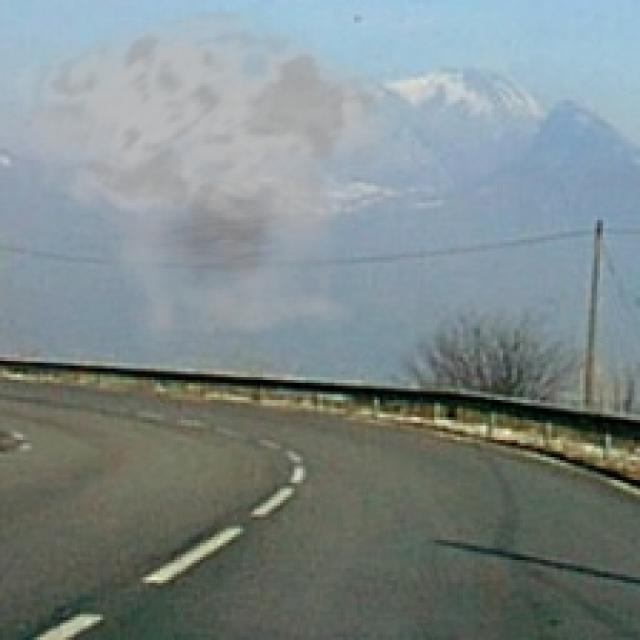smoke: (9, 9, 434, 368)
